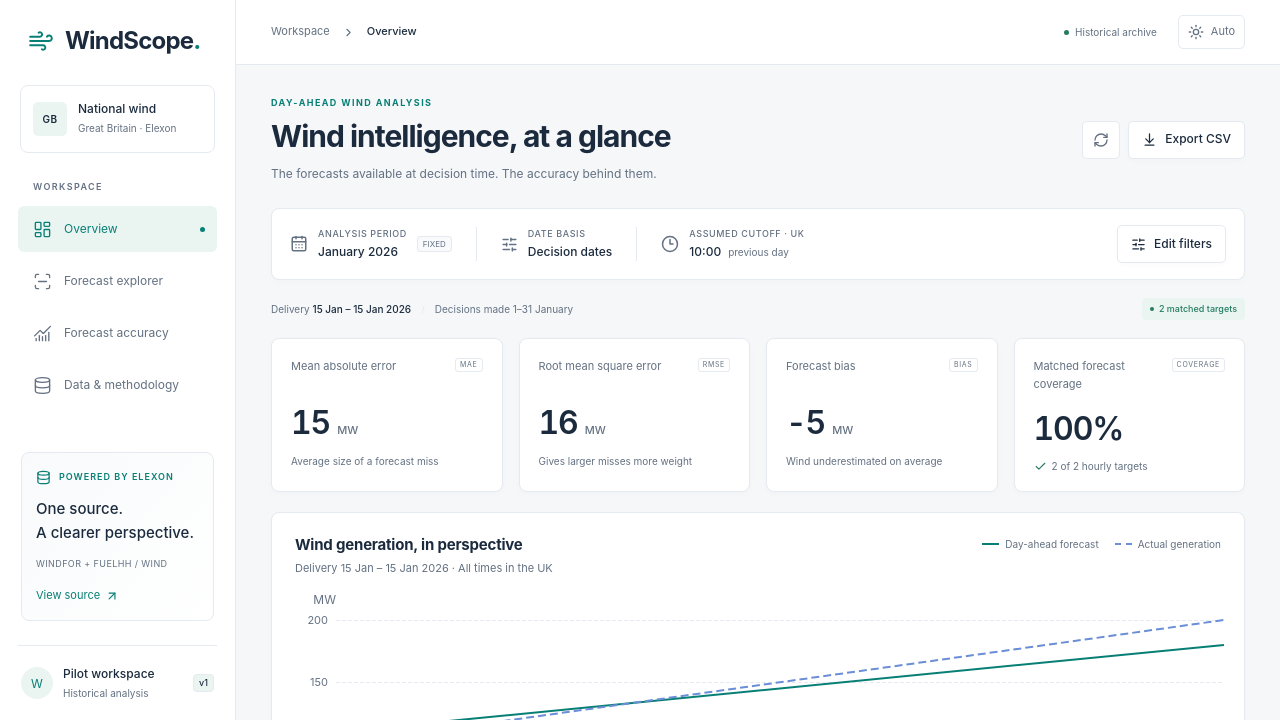
Test case: dashboard data states › retains an explicitly labelled snapshot after a refresh error
The width and height of the screenshot is (1280, 720).
Step 1. Click the button named "Refresh analysis" → (1101, 140), box [1082,120,1120,158]
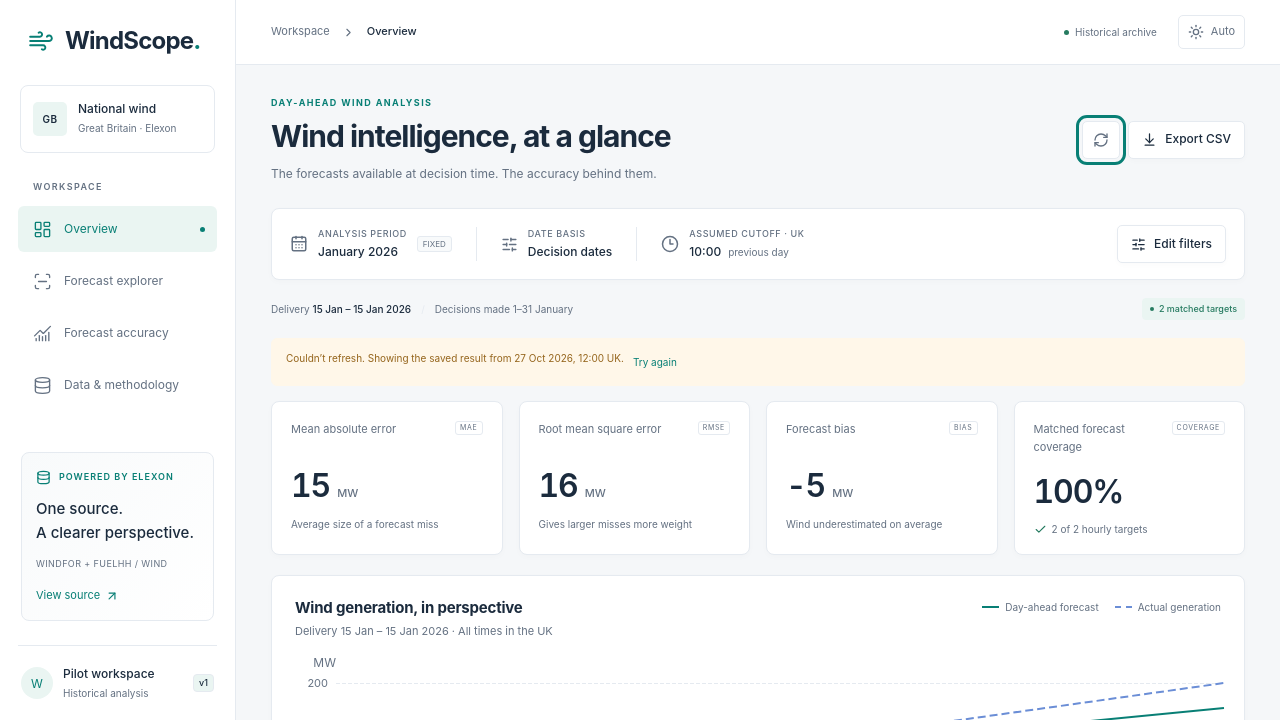
Expected: the message shows "Couldn’t refresh. Showing the saved result", [286,352,514,364]
